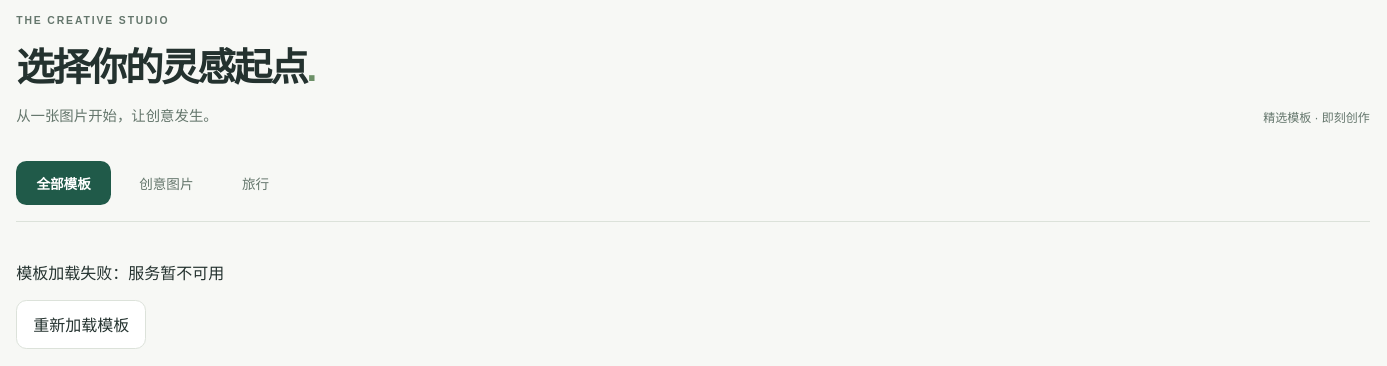
Test: distinguishes empty results from loading/error and can manually retry a failed query
Click the button "重新加载模板" at (81, 324), box [16,300,146,349]
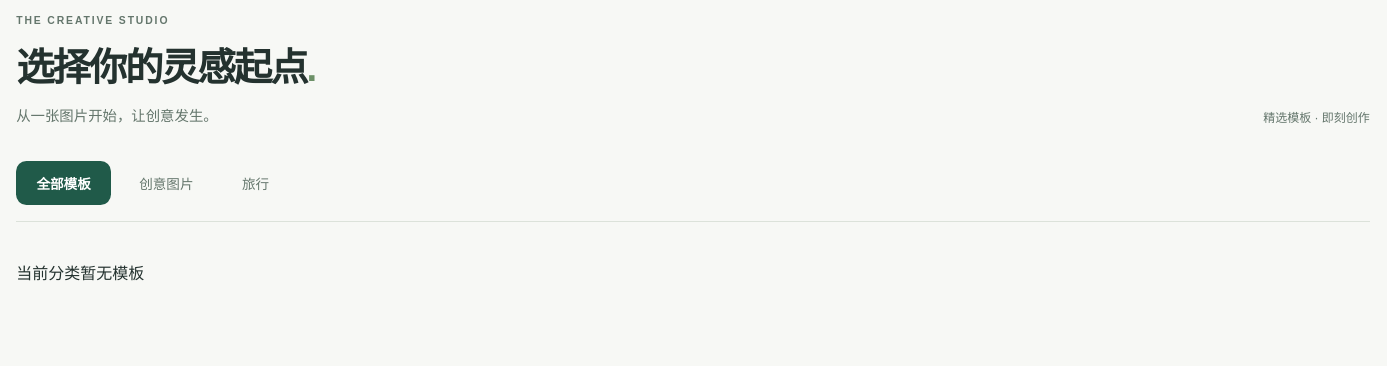
expect the text "当前分类暂无模板" is shown: met, box [16,265,144,282]
